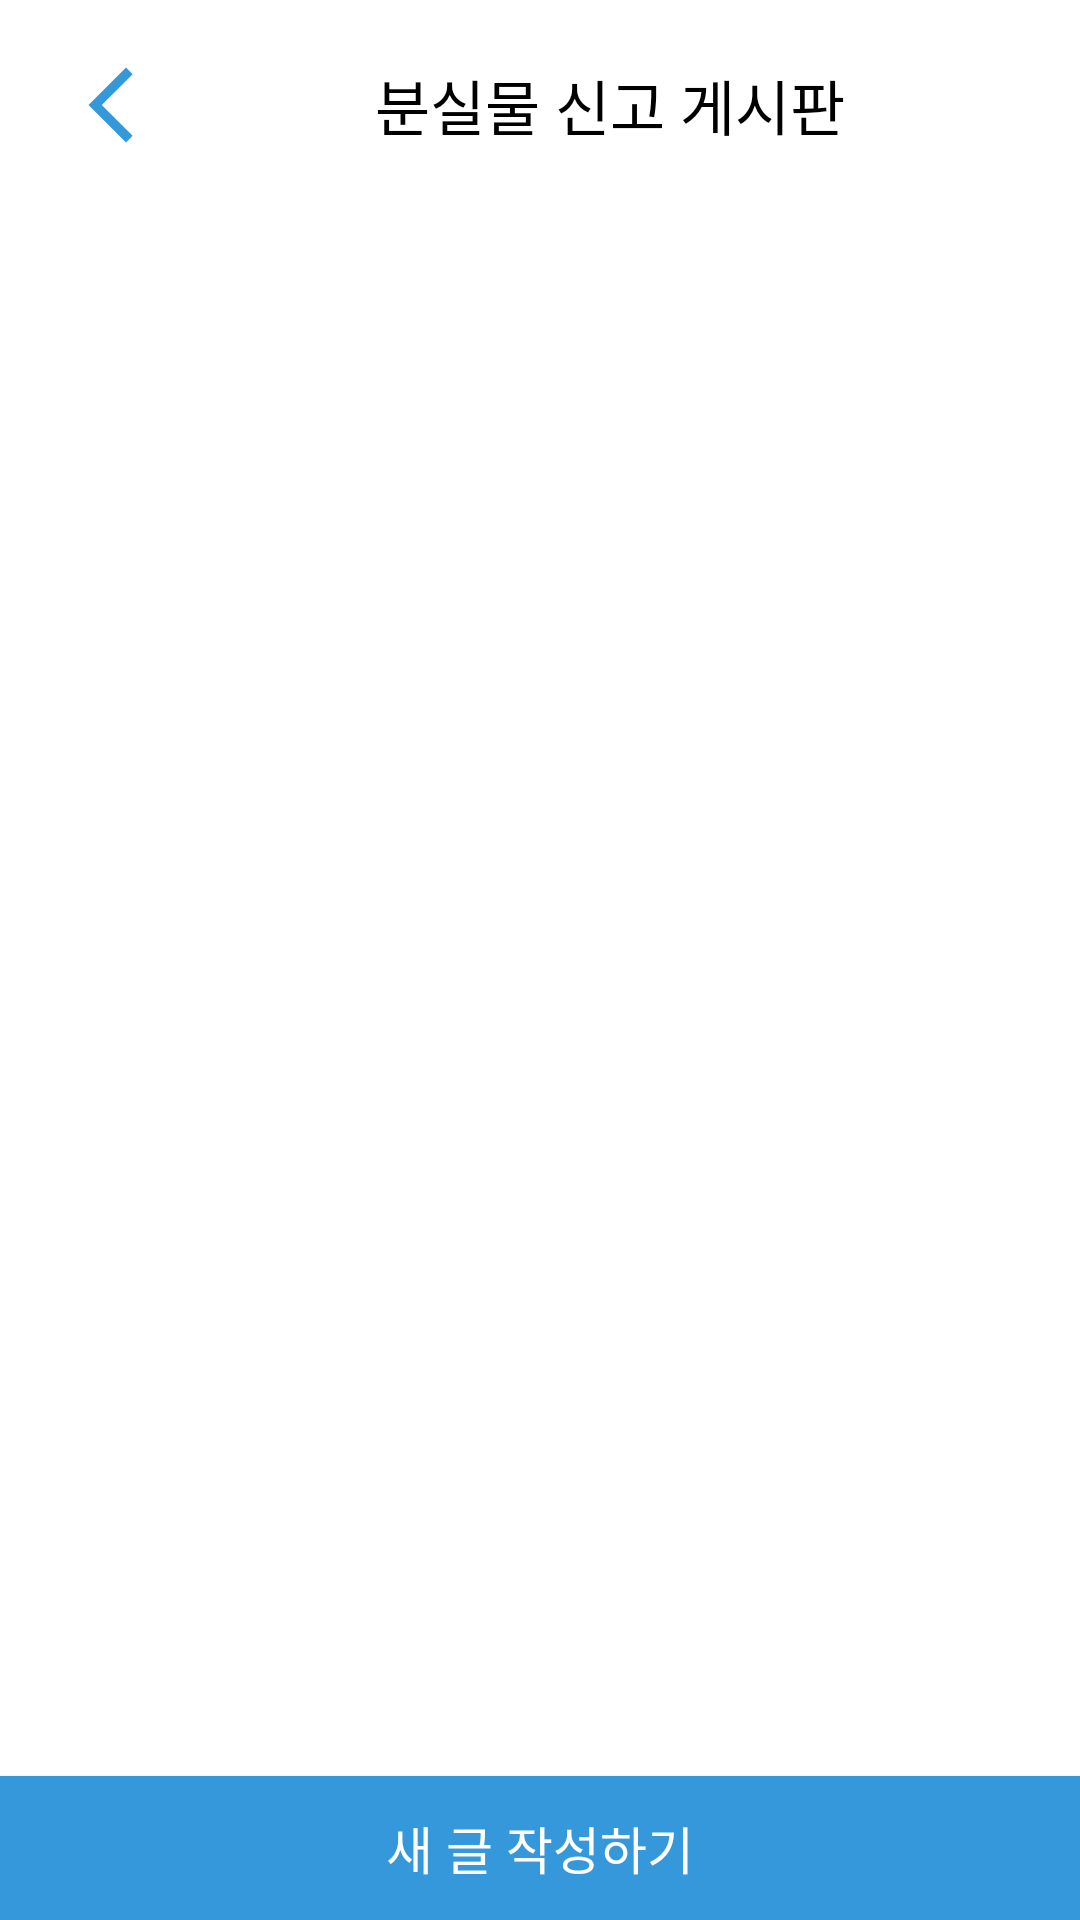

Icons on this 1080 × 1920 Android screen, each with its box as BBox(x1, y1, x2, y2):
back: BBox(89, 67, 133, 143)
